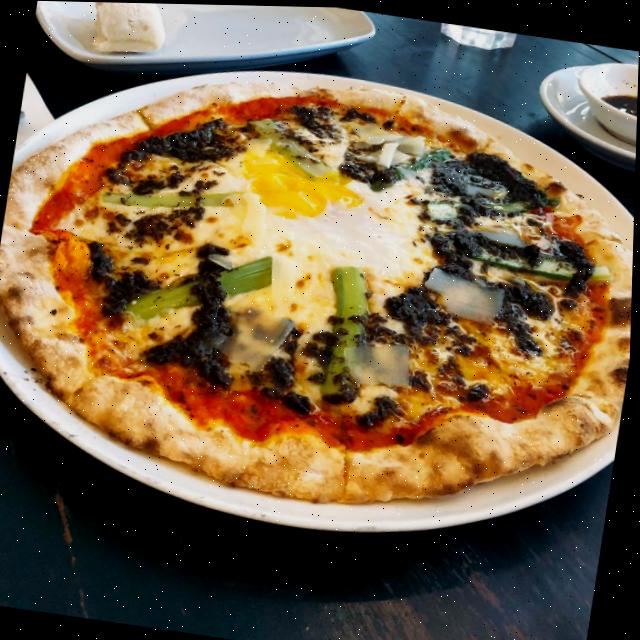pizza: (0, 39, 639, 539)
